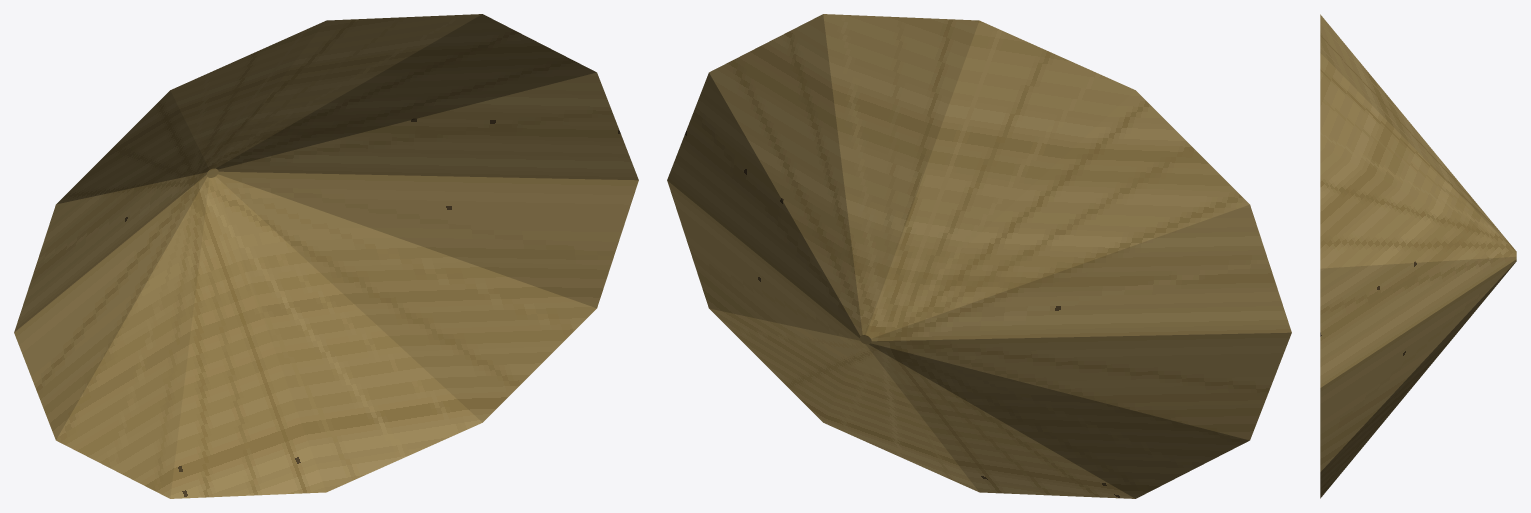
The model's file is rice_hat_frayed.glb.
3 renders of one model, left to right at view 1: azimuth 30°, elevation 25°; view 2: azimuth 150°, elevation 25°; view 3: azimuth 270°, elevation 25°, orthographic. The views are drawn at different scales.
Parts seen in each view (by area): view 1: rice_hat_frayed; view 2: rice_hat_frayed; view 3: rice_hat_frayed.
Part boxes in pixels (<box>): rice_hat_frayed: <box>14,14,638,498</box>; rice_hat_frayed: <box>667,14,1291,498</box>; rice_hat_frayed: <box>1320,14,1516,498</box>.
Size of the model in its own units: 0.4973 by 0.359 by 0.1568.
1 material, 1 textured.
